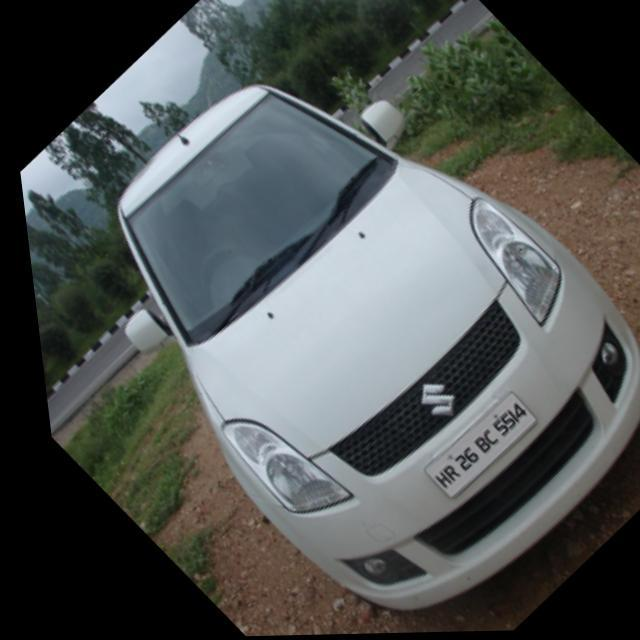license_plate: (401, 388, 537, 506)
